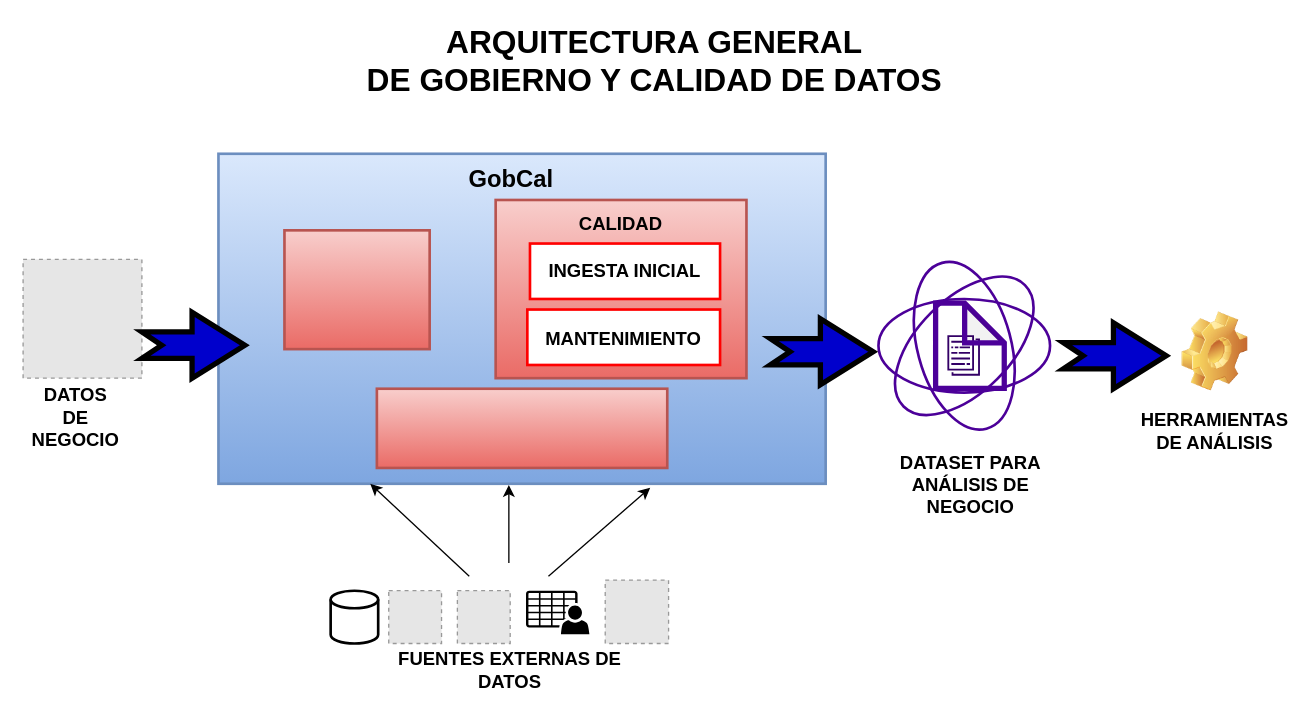
The diagram is 1312 pixels wide and 714 high, and some of its shapes have lost their labels. Grey dashed boxes stand in for pictures. Each missing label, with the centre of its shape:
"GOBERNANZA" goes at (x=521, y=428).
"INTEGRACIÓN" goes at (x=356, y=289).
